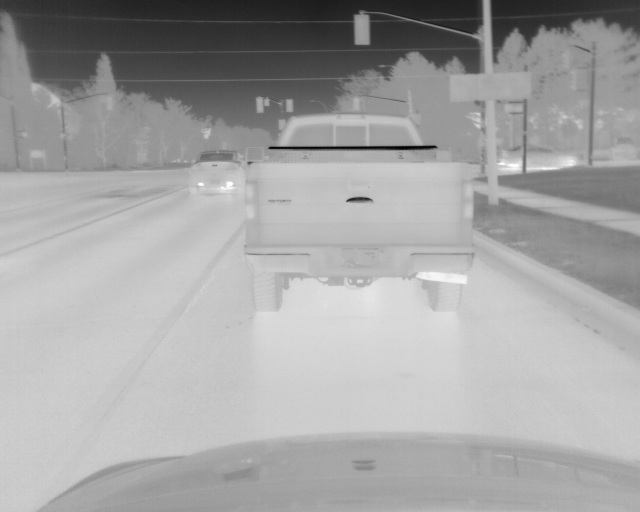car: (240, 111, 476, 315), (189, 148, 249, 194), (495, 144, 583, 169)
